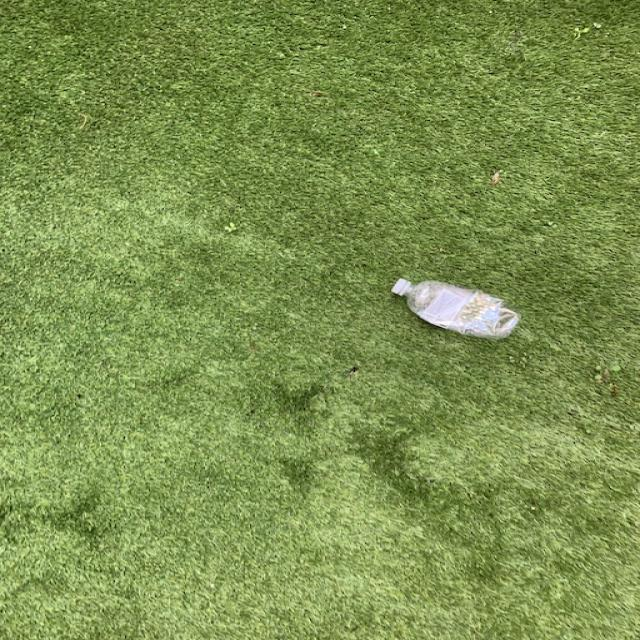Plastic: (392, 278, 521, 339)
